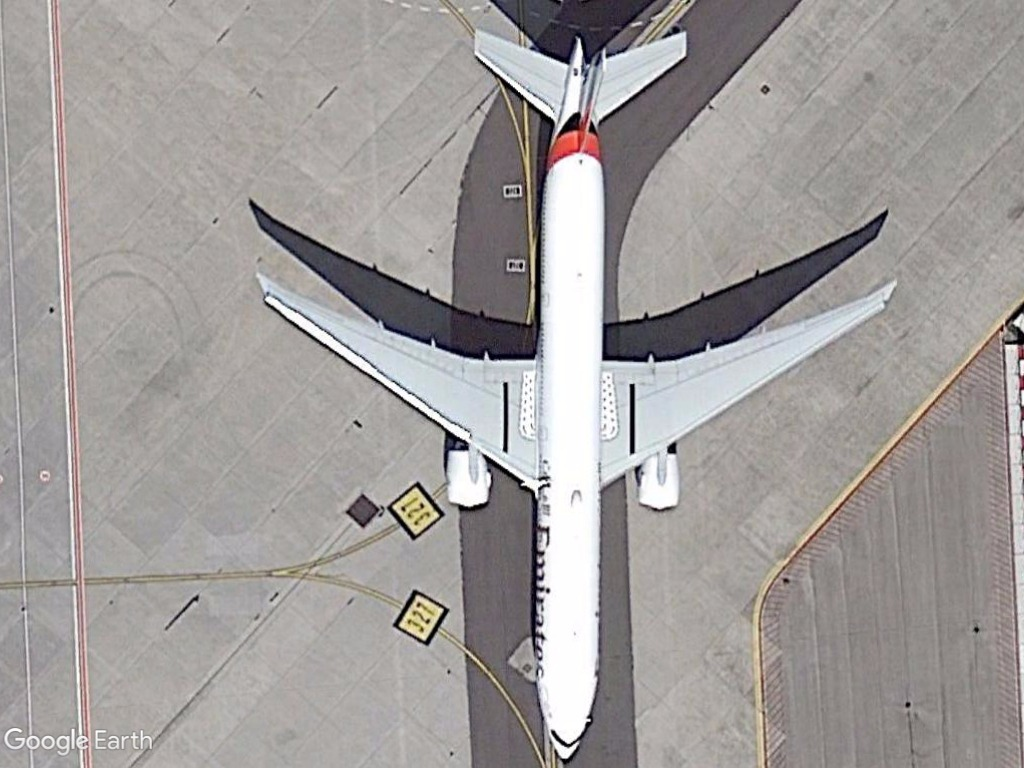airliner: (255, 13, 903, 763)
